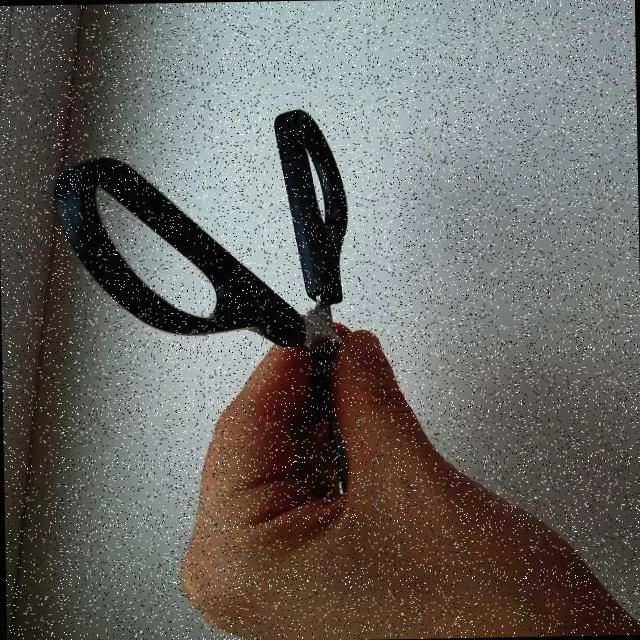scissors: (42, 101, 483, 640)
